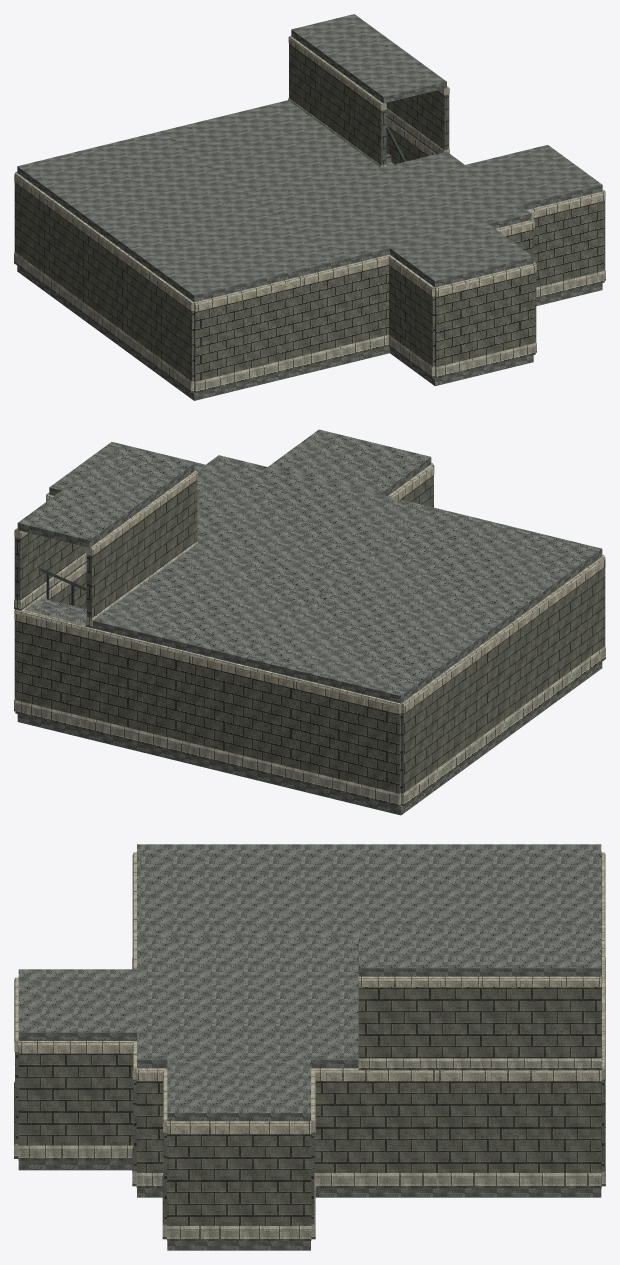
The model's file is basement_psx.glb.
The picture shows the model from 3 angles, top to bottom: view 1: azimuth 30°, elevation 25°; view 2: azimuth 150°, elevation 25°; view 3: azimuth 270°, elevation 25°; orthographic projection. The views are drawn at different scales.
Visible parts, largest first — view 1: Living ceiling, wall (×11), Hall ceiling, Solid concrete backing.003, Solid concrete backing, Living east ceiling, Solid concrete backing.016, Stairwell roof, WC ceiling, Solid concrete backing.021, Store ceiling, Solid concrete backing.018 (+6 smaller); view 2: Living ceiling, Solid concrete backing.001, wall (×12), Hall ceiling, Solid concrete backing, Living east ceiling, Stairwell roof, Solid concrete backing.021, WC ceiling, Solid concrete backing.002, Structural floor, Solid concrete backing.022 (+4 smaller); view 3: Living ceiling, Hall ceiling, Solid concrete backing.007, wall (×12), Solid concrete backing.022, Solid concrete backing.019, Stairwell roof, Solid concrete backing.017, Store ceiling, WC ceiling, Structural floor, Solid concrete backing.006 (+2 smaller).
Part boxes in pixels (x1,y1,x2,y2): Living ceiling: (17,130,339,301); wall (×11): (14,36,604,393); Hall ceiling: (255,151,531,266); Solid concrete backing.003: (195,256,388,381); Solid concrete backing: (14,174,192,381); Living east ceiling: (163,100,380,198); Solid concrete backing.016: (436,264,535,367); Stairwell roof: (291,14,446,103); WC ceiling: (390,224,533,287); Solid concrete backing.021: (289,37,386,165); Store ceiling: (465,145,602,209); Solid concrete backing.018: (529,192,604,287); Living ceiling: (235,508,602,703); Solid concrete backing.001: (87,628,399,793); wall (×12): (14,464,605,806); Hall ceiling: (197,455,436,578); Solid concrete backing: (403,557,605,793); Living east ceiling: (93,544,339,662); Stairwell roof: (17,446,194,547); Solid concrete backing.021: (86,474,197,617); WC ceiling: (268,429,431,496); Solid concrete backing.002: (16,611,87,717); Structural floor: (17,662,602,815); Solid concrete backing.022: (14,533,86,600); Living ceiling: (137,844,601,937); Hall ceiling: (137,937,358,1068); Solid concrete backing.007: (314,1070,601,1172); wall (×12): (14,975,605,1240); Solid concrete backing.022: (358,978,601,1058); Solid concrete backing.019: (167,1123,311,1225); Stairwell roof: (359,927,601,976); Solid concrete backing.017: (18,1042,133,1145); Store ceiling: (167,1060,310,1121); WC ceiling: (18,969,136,1040); Structural floor: (137,1188,601,1197); Solid concrete backing.006: (136,1070,163,1172).
Size of the model in its own units: 13.9 by 5.45 by 12.75.
Materials: 24 (22 with a texture image).
